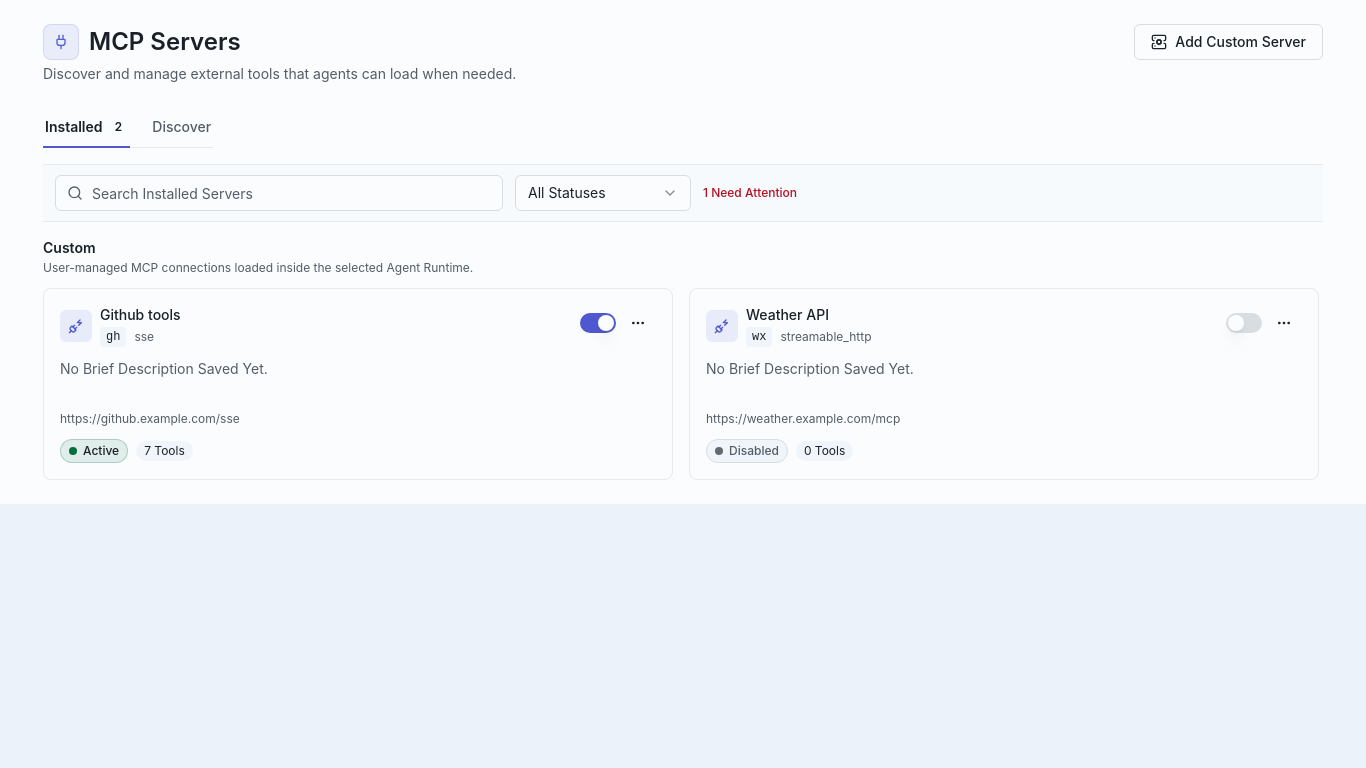
Scenario: McpServersPage › normalizes a stored no-auth configuration in the edit form
The width and height of the screenshot is (1366, 768).
expect the link "Weather API" is shown: met, box top-left (746, 306), bottom-right (829, 323)
Click the button named "Open actions for Weather API" at [1284, 323], box top-left (1266, 305), bottom-right (1302, 341)
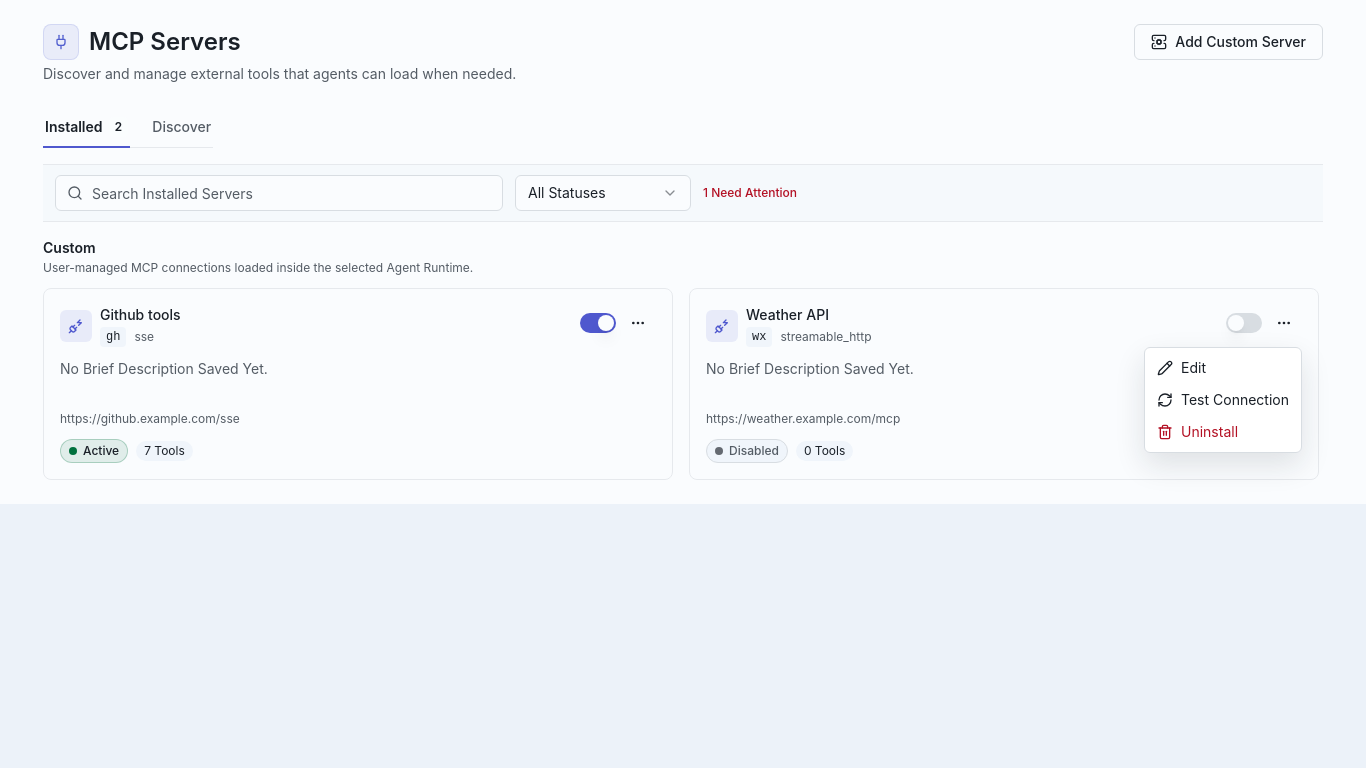
Click the menu item "Edit" at [1182, 368], box top-left (1157, 359), bottom-right (1206, 376)
(page scrolled)
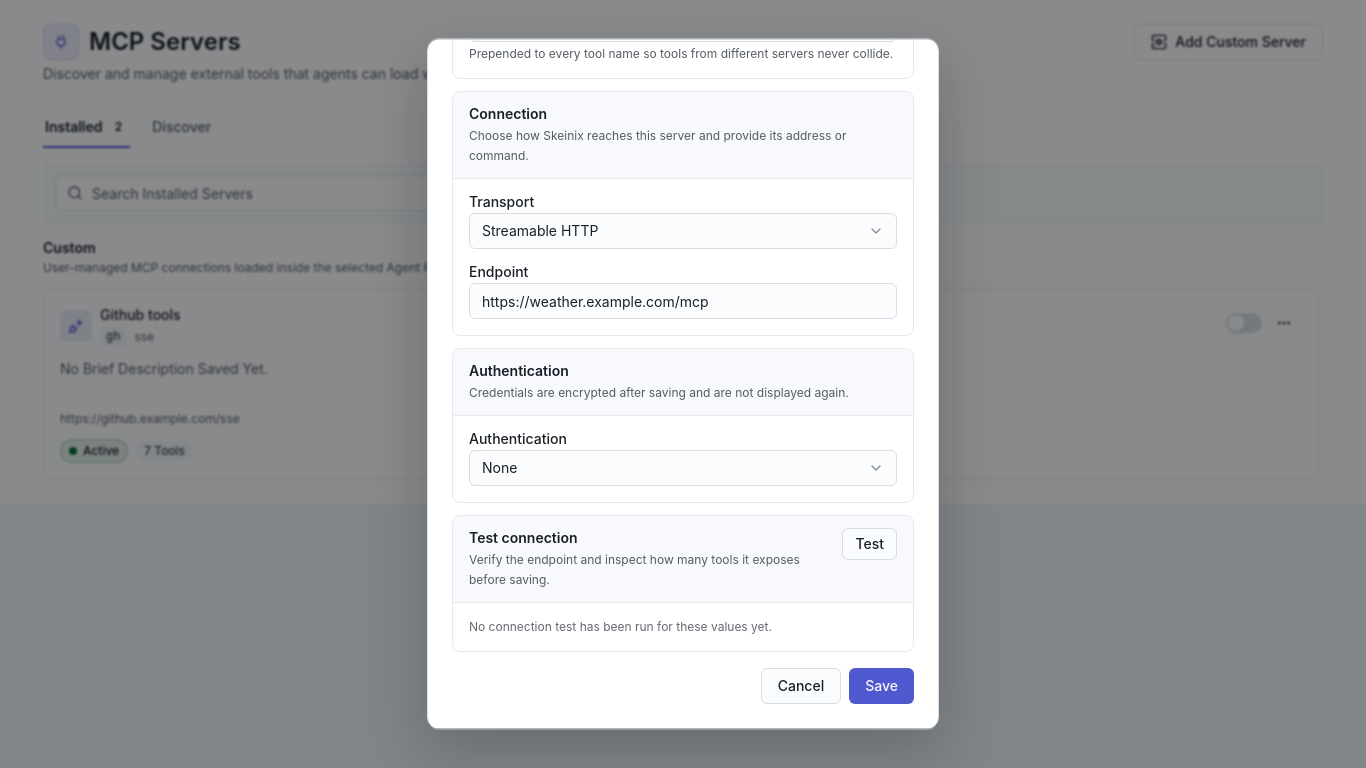
expect the dropdown with test id "mcp-auth" reads "None": met, box top-left (469, 450), bottom-right (897, 486)
